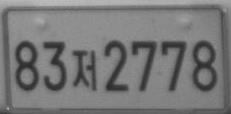2: (103, 38, 128, 91)
3: (42, 40, 67, 91)
7: (130, 39, 157, 91), (160, 40, 187, 91)
8: (191, 39, 218, 91), (14, 39, 39, 91)
저: (71, 48, 96, 91)
